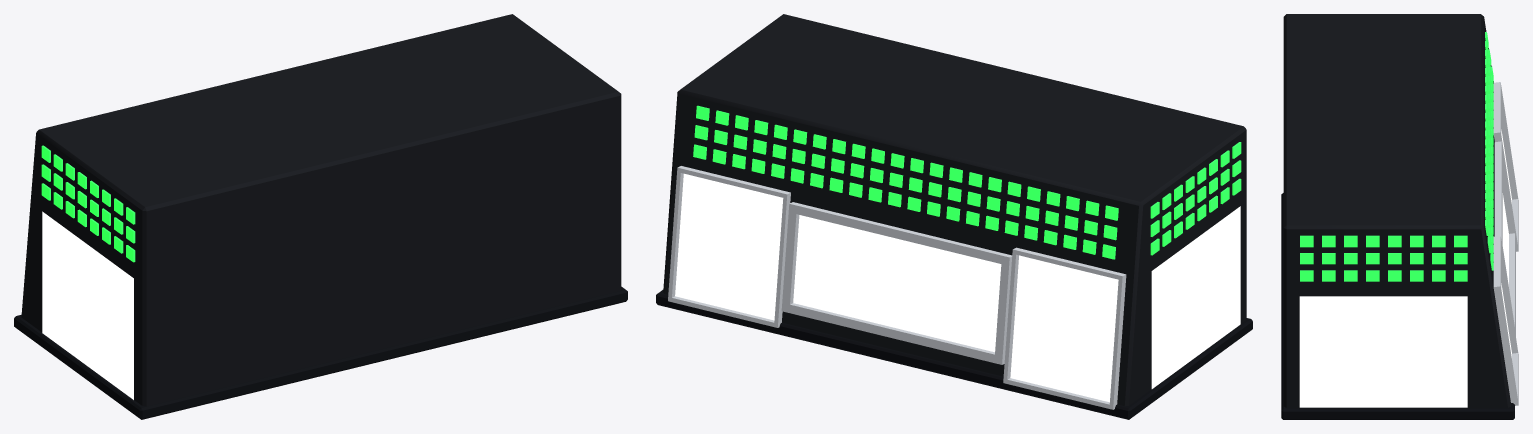
Rendered from deck_painted_wings.glb.
The picture shows the model from 3 angles, left to right: view 1: azimuth 30°, elevation 25°; view 2: azimuth 150°, elevation 25°; view 3: azimuth 270°, elevation 25°; orthographic projection. The views are drawn at different scales.
Visible parts, largest first — view 1: deck_painted_wings_deco_body, deck_painted_wings_acrylic_art, deck_painted_wings_deco_trim, deck_painted_wings_deco_led; view 2: deck_painted_wings_deco_body, deck_painted_wings_acrylic_art, deck_painted_wings_acrylic_sign, deck_painted_wings_deco_led, deck_painted_wings_chrome, deck_painted_wings_deco_trim; view 3: deck_painted_wings_deco_body, deck_painted_wings_acrylic_art, deck_painted_wings_deco_led, deck_painted_wings_chrome, deck_painted_wings_deco_trim, deck_painted_wings_acrylic_sign.
Boxes of the visible parts, x1,y1,x2,y2 form: deck_painted_wings_deco_body: (21, 14, 621, 406); deck_painted_wings_acrylic_art: (42, 211, 133, 399); deck_painted_wings_deco_trim: (14, 286, 627, 419); deck_painted_wings_deco_led: (41, 145, 135, 262); deck_painted_wings_deco_body: (663, 14, 1246, 406); deck_painted_wings_acrylic_art: (675, 173, 1240, 402); deck_painted_wings_acrylic_sign: (793, 215, 1001, 352); deck_painted_wings_deco_led: (693, 105, 1241, 259); deck_painted_wings_chrome: (668, 166, 1126, 409); deck_painted_wings_deco_trim: (656, 290, 1252, 419); deck_painted_wings_deco_body: (1283, 14, 1510, 407); deck_painted_wings_acrylic_art: (1299, 129, 1511, 407); deck_painted_wings_deco_led: (1300, 32, 1493, 281); deck_painted_wings_chrome: (1493, 82, 1518, 405); deck_painted_wings_deco_trim: (1281, 193, 1514, 419); deck_painted_wings_acrylic_sign: (1502, 193, 1508, 286).
Size of the model in its own units: 2.14 by 0.88 by 0.9849.
